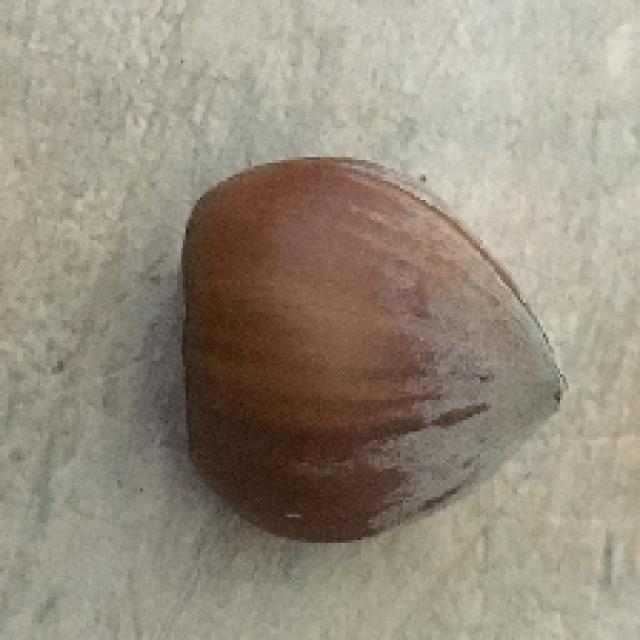qualityHazelnut: (175, 153, 564, 542)
